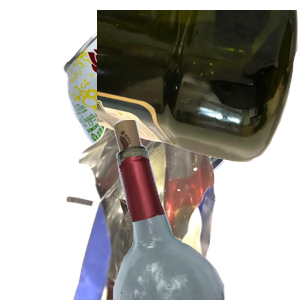glass: (89, 120, 300, 300)
metal: (60, 18, 300, 198)
plastic: (97, 10, 300, 165)
trash: (63, 120, 300, 300)
